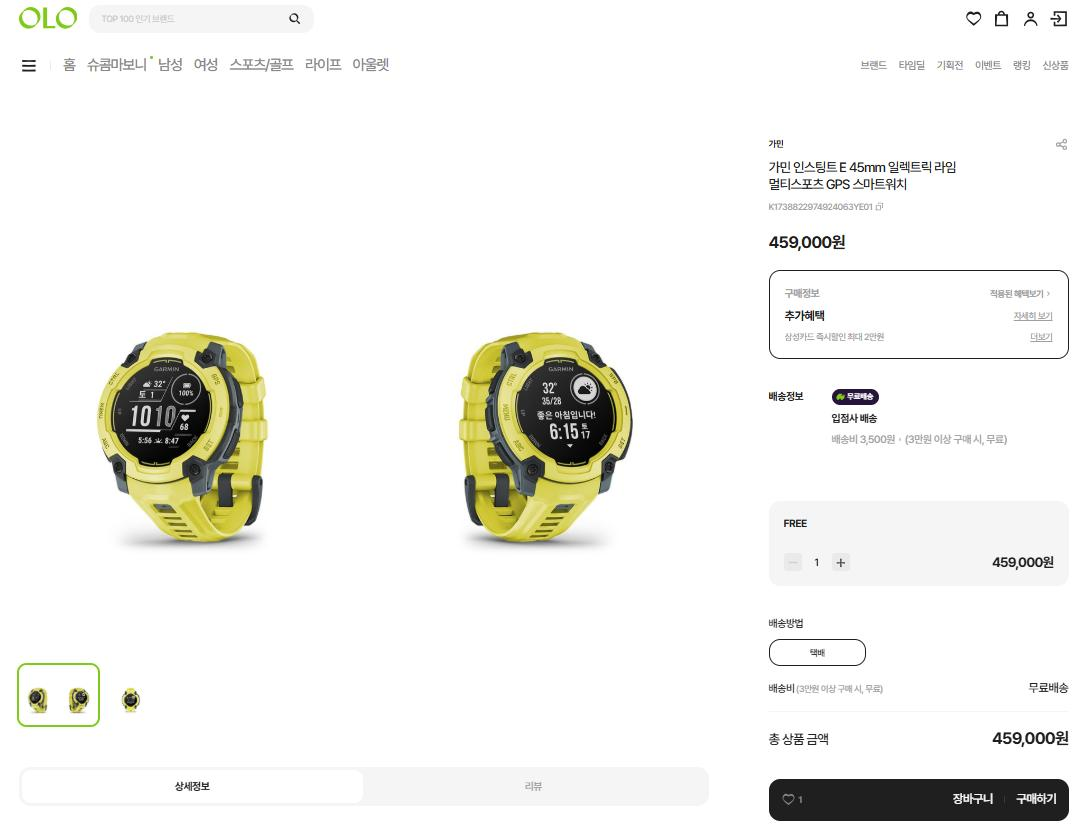button: (767, 631, 869, 673), (775, 549, 867, 576), (86, 52, 155, 77), (227, 53, 298, 76), (948, 786, 1000, 810), (986, 283, 1053, 301), (1014, 787, 1061, 811), (350, 53, 396, 77), (1005, 307, 1060, 325), (302, 54, 345, 76), (1040, 52, 1074, 79), (1047, 130, 1078, 159), (854, 51, 892, 74), (971, 52, 1006, 76), (935, 51, 967, 77), (896, 52, 929, 76), (960, 3, 987, 32), (1048, 4, 1075, 33), (989, 3, 1016, 31), (1019, 3, 1045, 32), (157, 52, 185, 77), (17, 54, 43, 80), (190, 52, 219, 75), (1011, 51, 1036, 77), (57, 52, 83, 77), (1025, 329, 1056, 346)
input_field: (82, 2, 318, 35)
